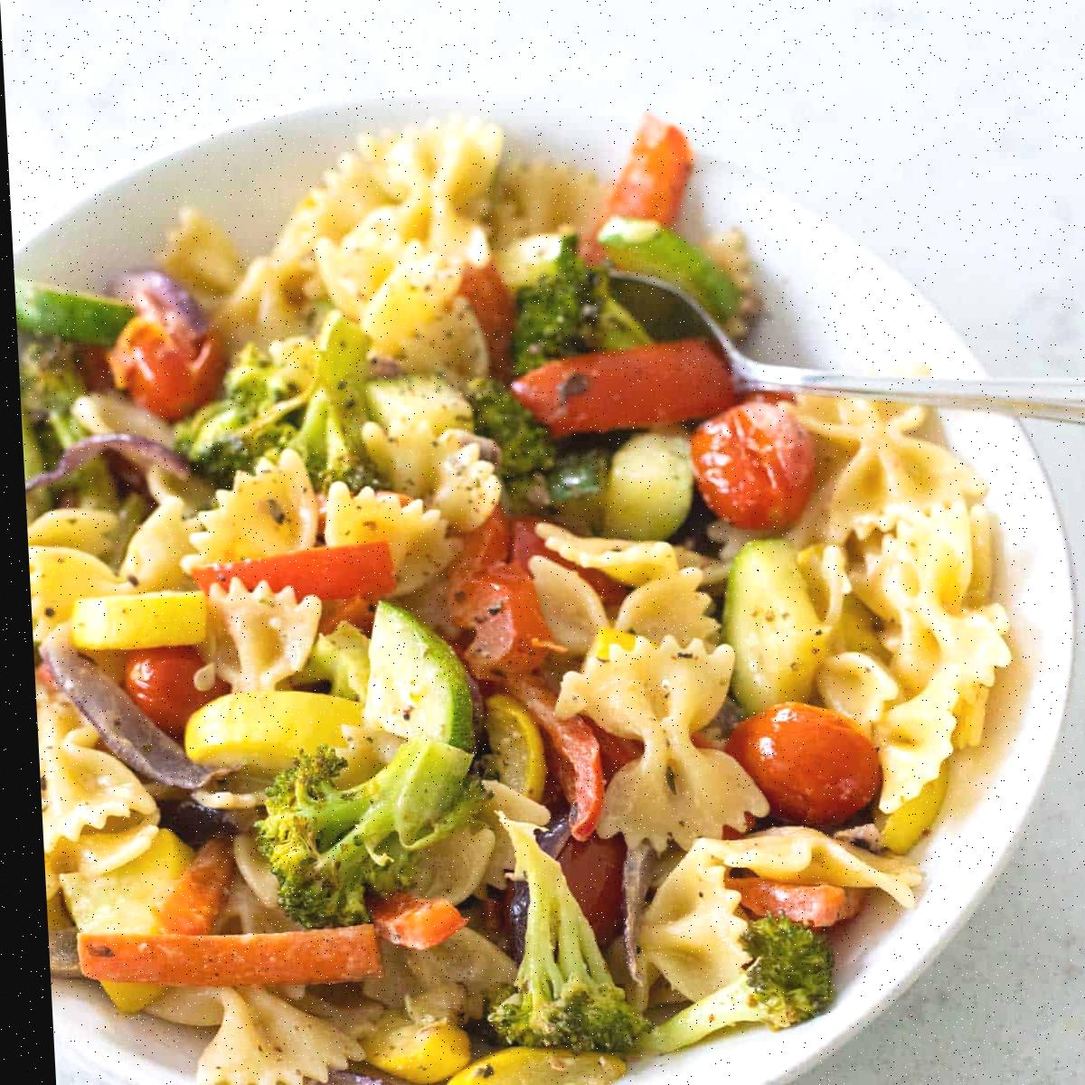pasta: (20, 117, 1009, 1084), (556, 637, 768, 851), (794, 396, 985, 542), (35, 683, 156, 857), (695, 826, 920, 907), (639, 841, 746, 999), (184, 449, 319, 568), (197, 987, 362, 1084), (324, 482, 458, 596), (363, 422, 500, 532), (203, 579, 321, 691), (491, 160, 607, 246), (28, 545, 132, 640), (536, 523, 677, 585), (528, 555, 609, 653), (158, 207, 243, 297), (119, 496, 199, 591), (27, 509, 117, 557)
